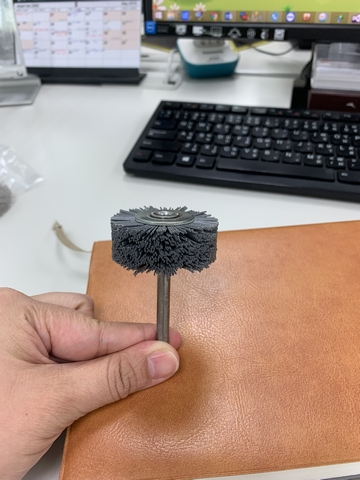Wheel Brush: (107, 206, 215, 348), (108, 195, 220, 317)
